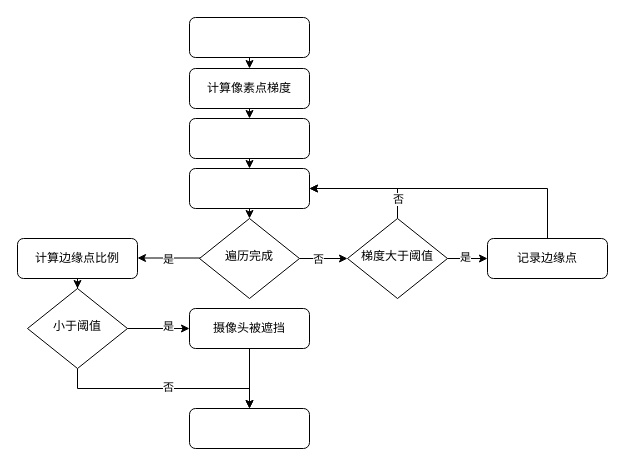
This 625x466 diagram has some shape labels left out. Here are the shapes that lost their labels. From the top down, the centre of each, then its label:
At point (249, 37): "人脸图像输入".
At point (249, 138): "计算像素点边缘方向".
At point (249, 188): "遍历像素点".
At point (249, 428): "结束".
